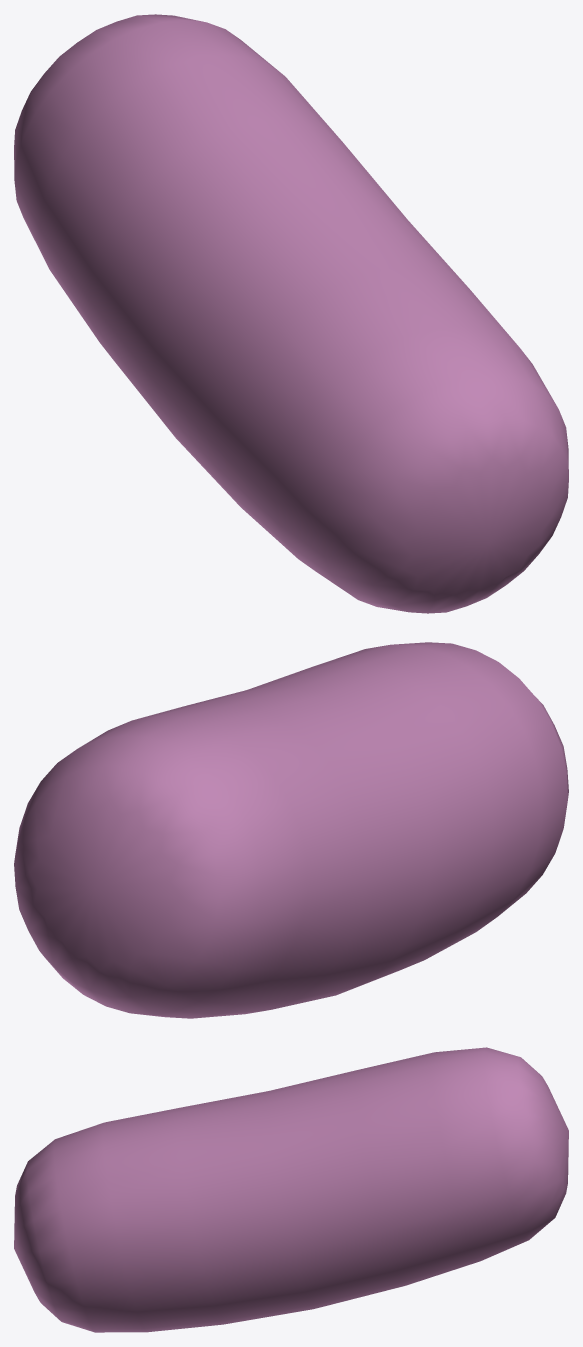
3 views of the same model, one above another, from view 1: azimuth 30°, elevation 25°; view 2: azimuth 150°, elevation 25°; view 3: azimuth 270°, elevation 25° (orthographic). The views are drawn at different scales.
Parts seen in each view (by area): view 1: 左侧红核; view 2: 左侧红核; view 3: 左侧红核.
Boxes of the visible parts, left/top/right/bottom form: 左侧红核: left=14, top=14, right=568, bottom=613; 左侧红核: left=14, top=642, right=568, bottom=1018; 左侧红核: left=14, top=1047, right=568, bottom=1332.
Bounding box in the file's own units: 0.00762 × 0.01 × 0.0189.
